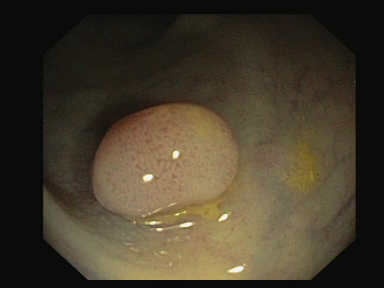polyp: (84, 90, 248, 228)
